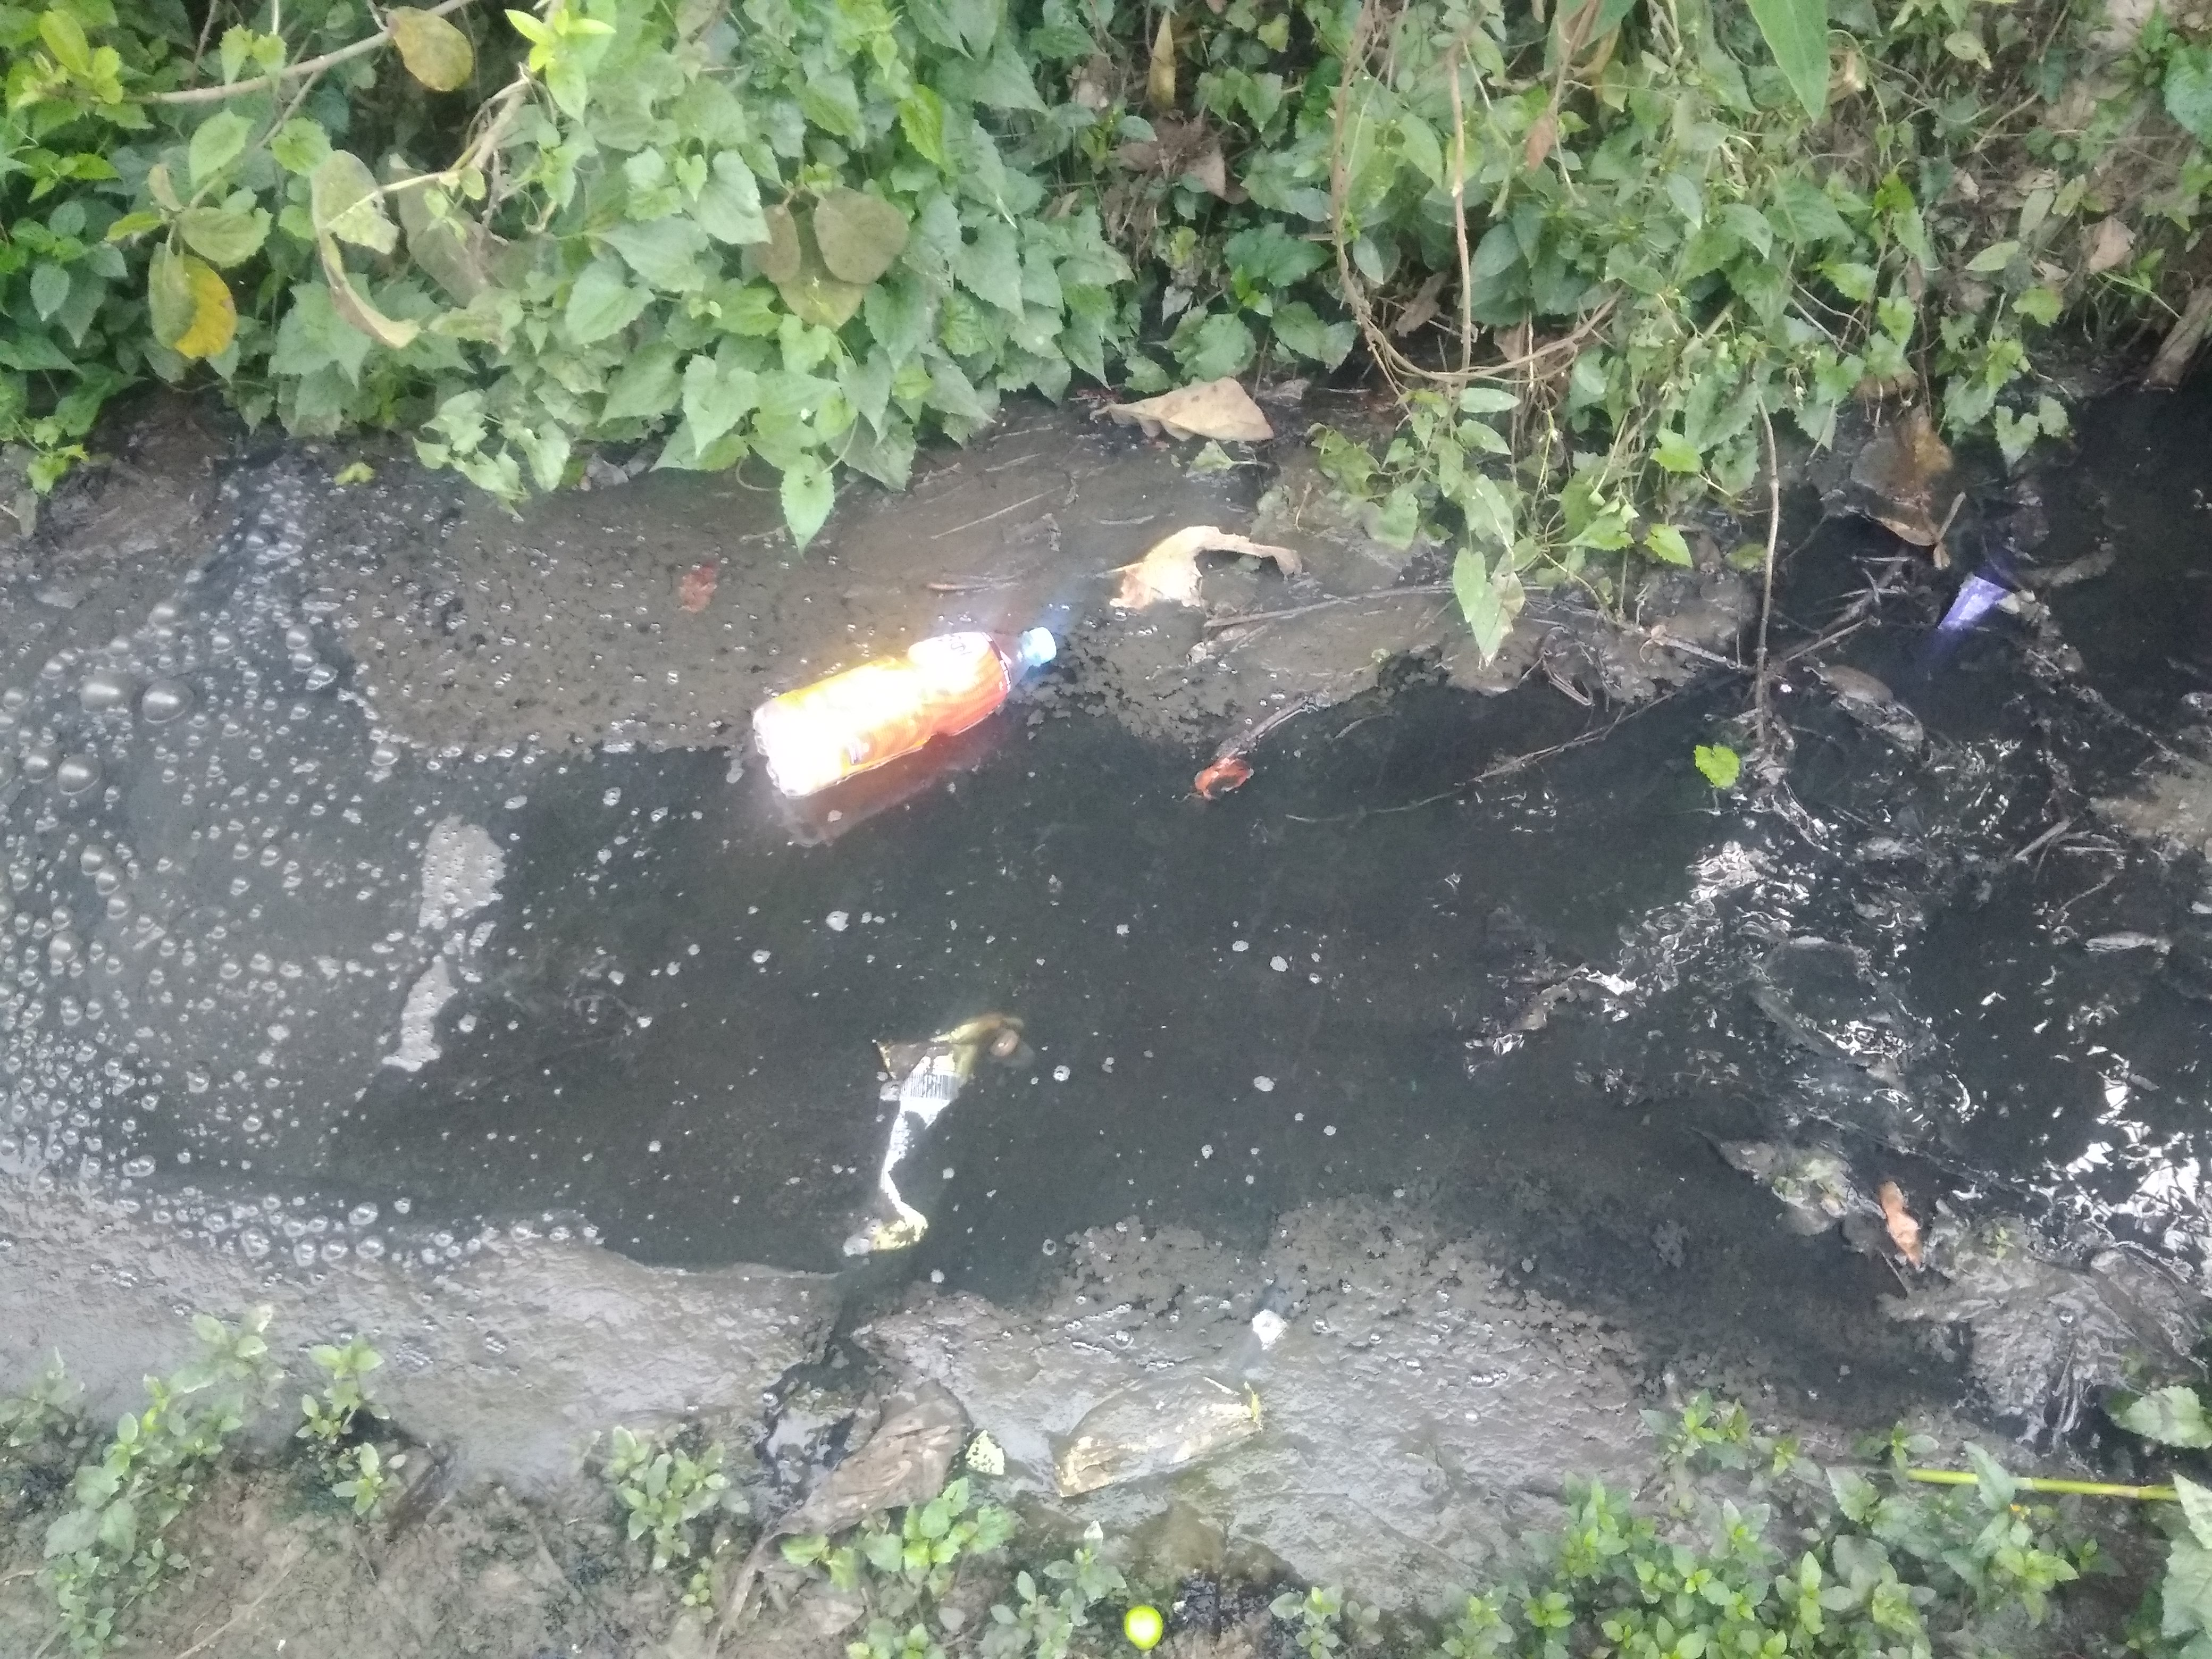Plastic Bottle: (749, 626, 1055, 796)
